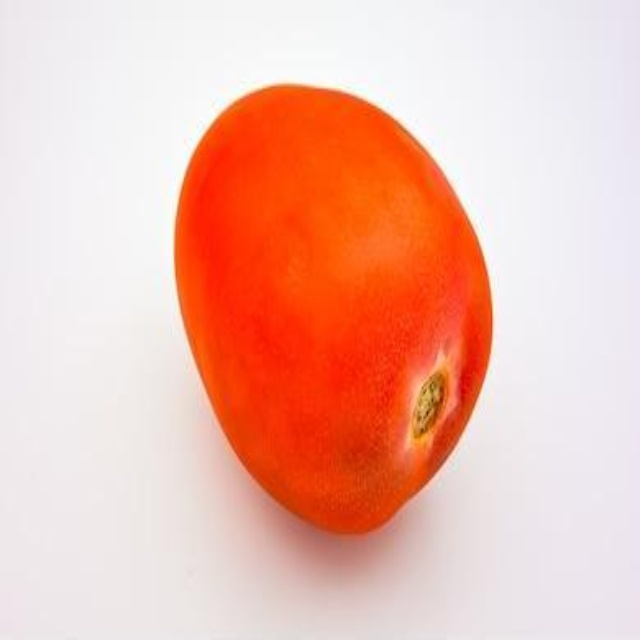tomato: (171, 74, 505, 533)
